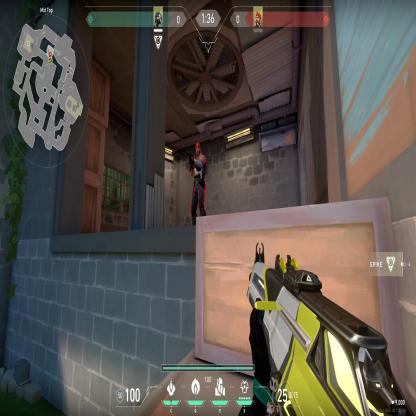enemy: (187, 139, 208, 227)
